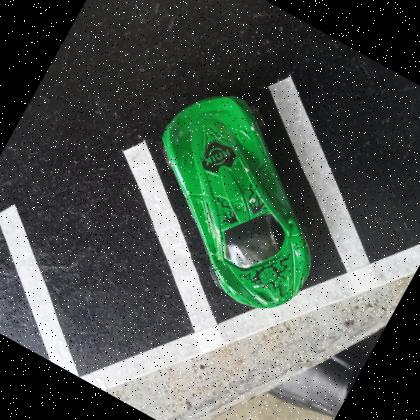Car: (159, 96, 312, 312)
